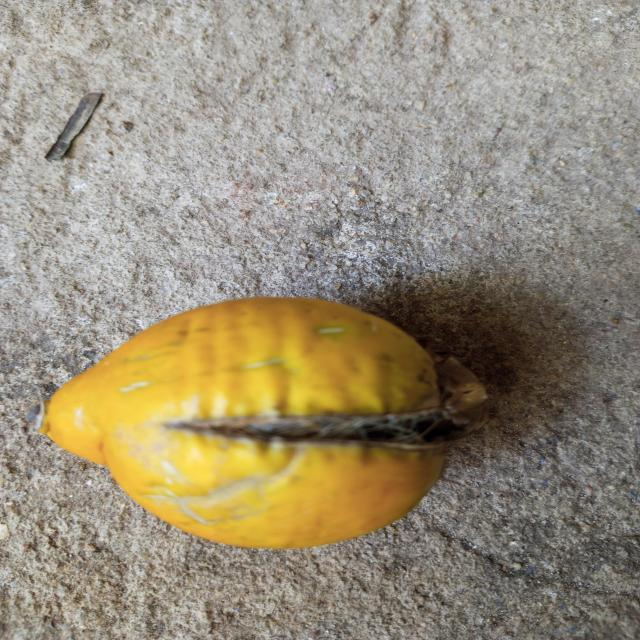damaged: (39, 297, 484, 552)
